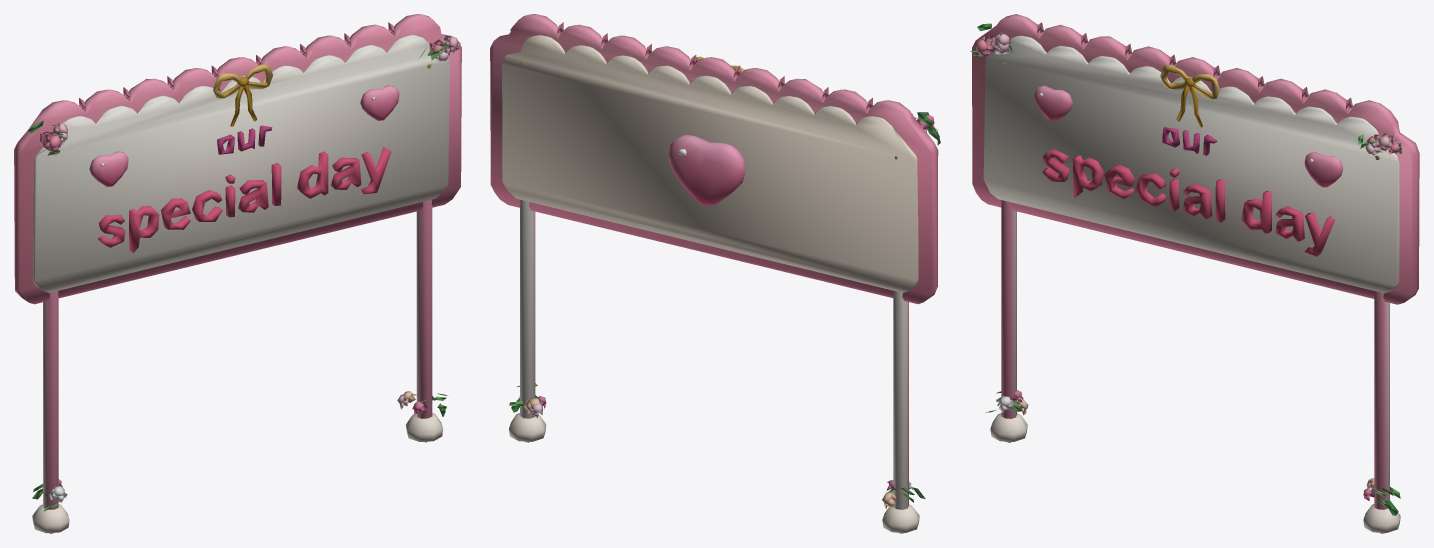
File: prp_anniv_sign_day_lite.glb
The picture shows the model from 3 angles, left to right: view 1: azimuth 30°, elevation 25°; view 2: azimuth 150°, elevation 25°; view 3: azimuth 330°, elevation 25°; orthographic projection.
Parts seen in each view (by area): view 1: INST_prp_anniv_sign_day_lite_sign_day; view 2: INST_prp_anniv_sign_day_lite_sign_day; view 3: INST_prp_anniv_sign_day_lite_sign_day.
Boxes of the visible parts, x1=… form: INST_prp_anniv_sign_day_lite_sign_day: x1=14, y1=14, x2=461, y2=533; INST_prp_anniv_sign_day_lite_sign_day: x1=490, y1=14, x2=940, y2=533; INST_prp_anniv_sign_day_lite_sign_day: x1=970, y1=14, x2=1419, y2=533.
Size of the model in its own units: 4.76 by 4.39 by 0.624.
